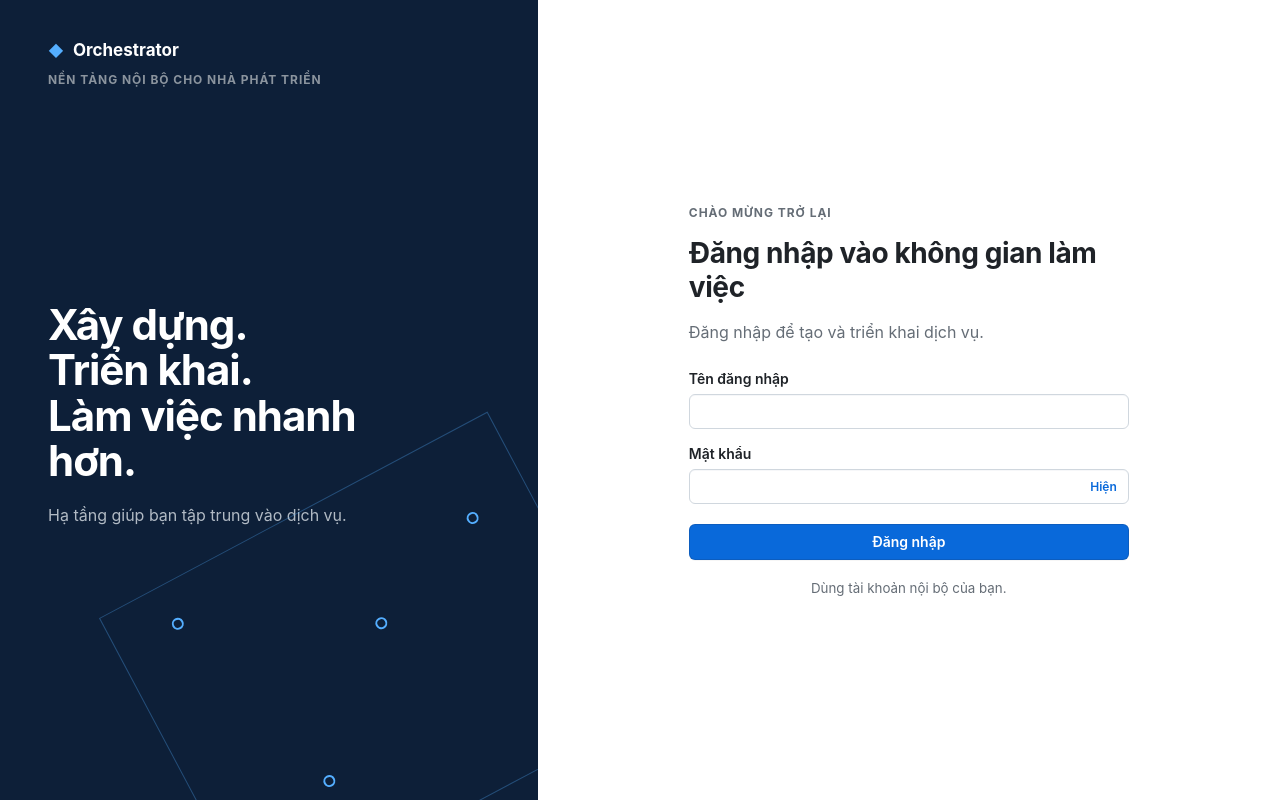
Test: shows a retryable API error and keeps the username
The width and height of the screenshot is (1280, 800).
Type "developer" into the field labelled "Tên đăng nhập" at (909, 411), box [689, 394, 1129, 428]
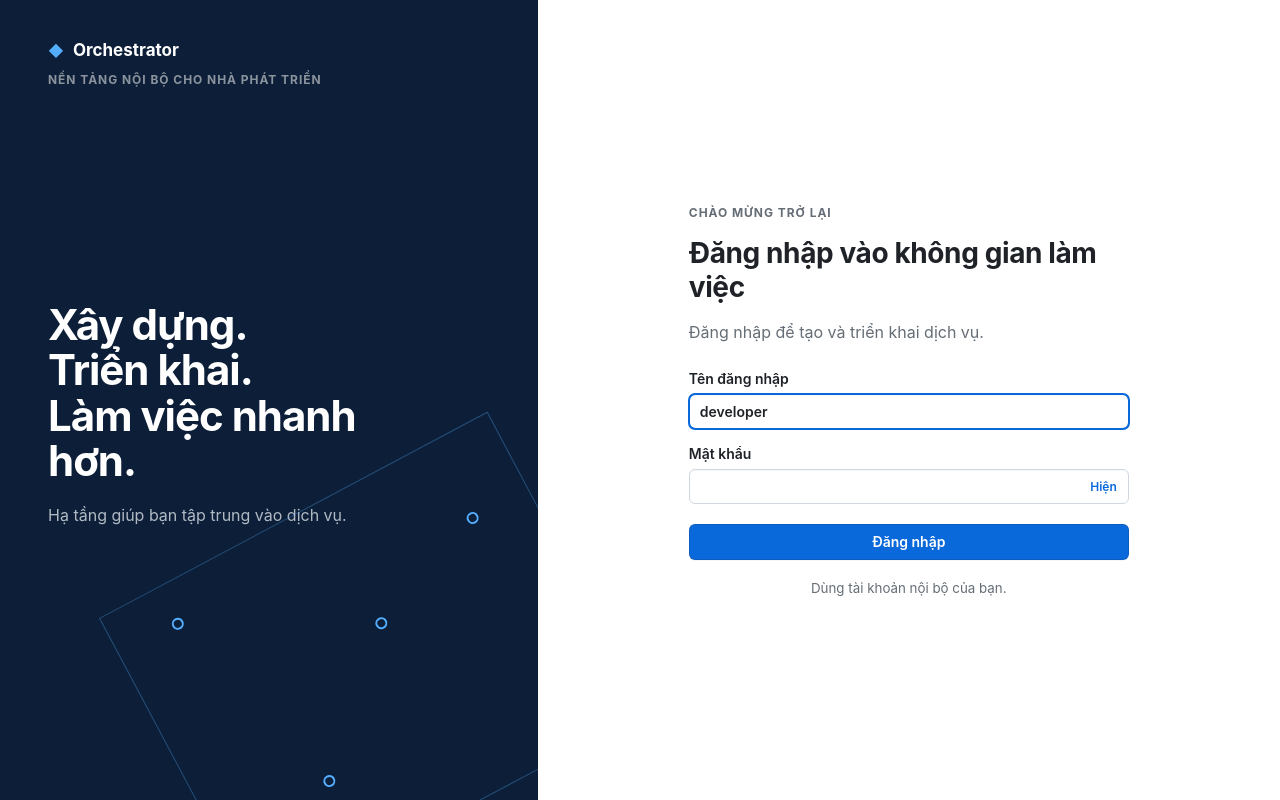
Type "test-password" into the password field labelled "Mật khẩu" at (909, 486), box [689, 468, 1129, 504]
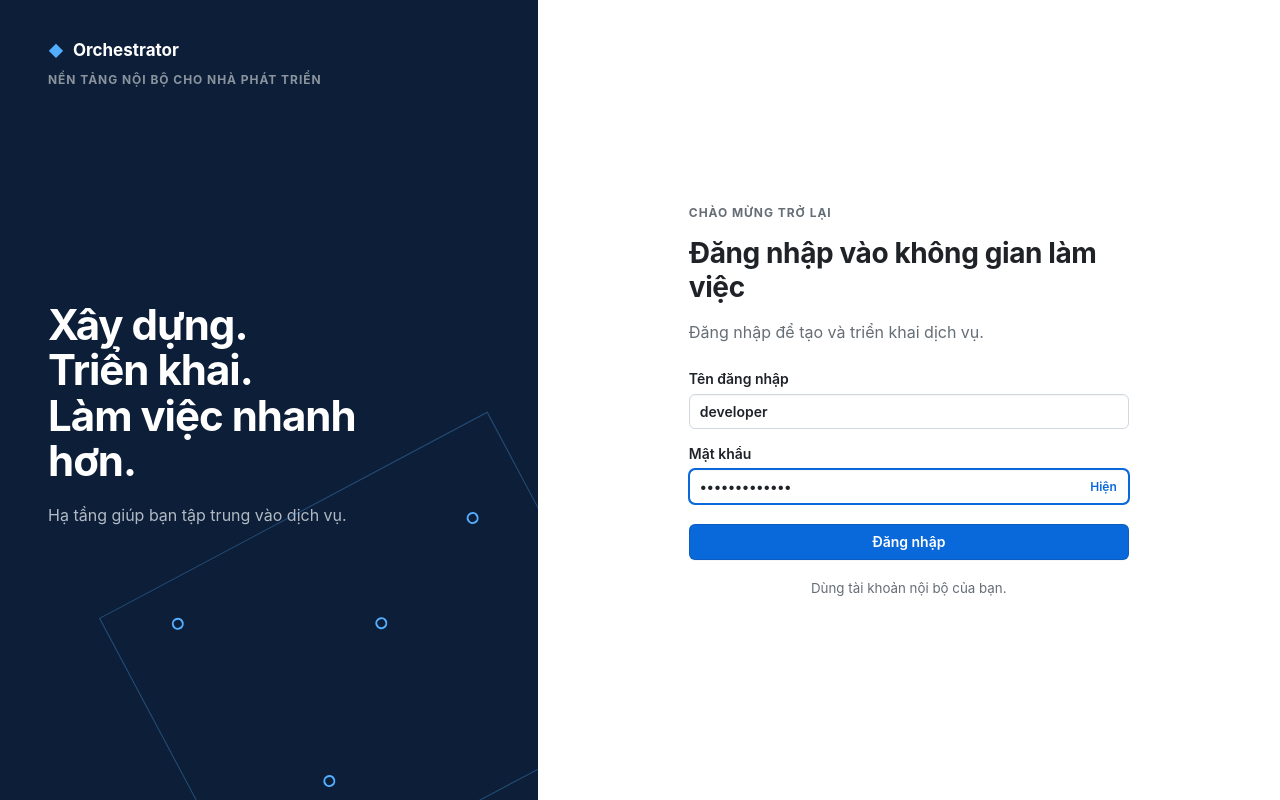
Click the button "Đăng nhập" at (909, 542), box [689, 524, 1129, 560]
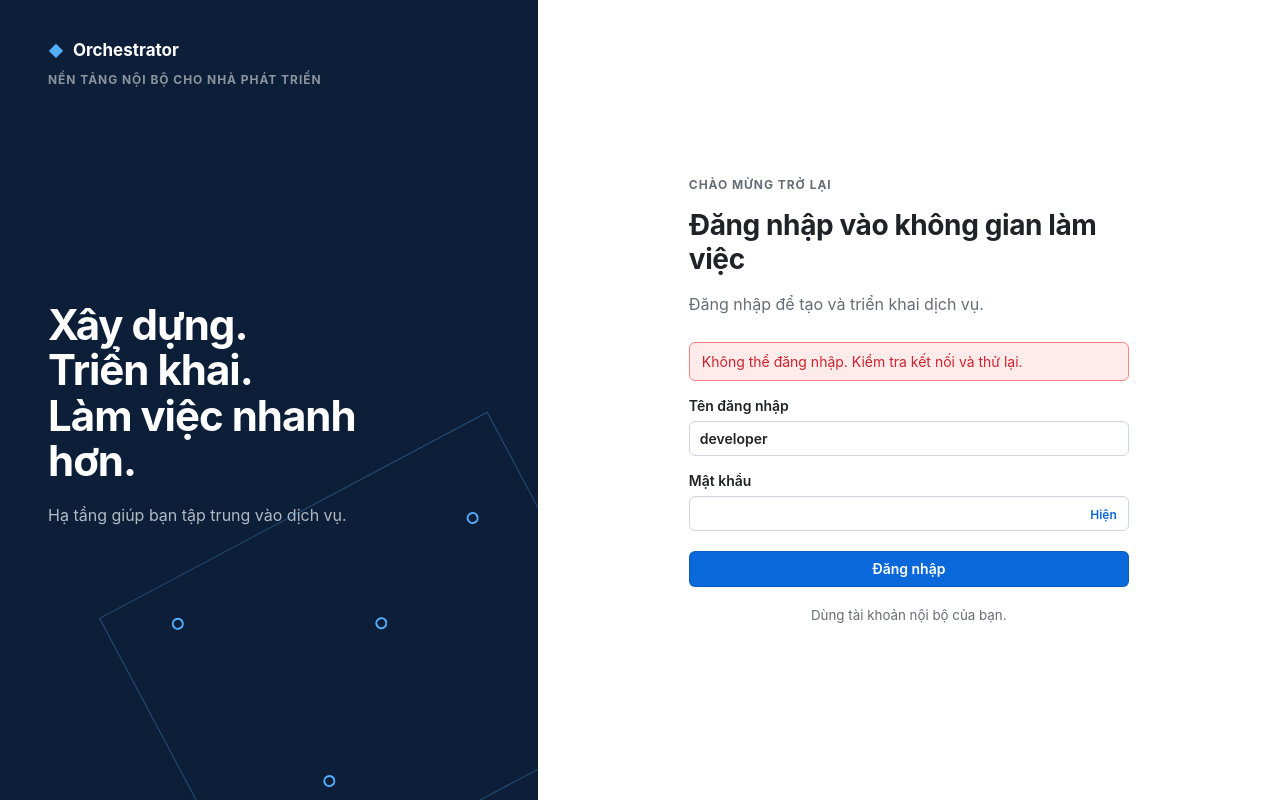
expect the button "Đăng nhập" is enabled: met, box [689, 551, 1129, 587]
expect the message reads "Không thể đăng nhập. Kiểm tra kết nối và thử lại.": met, box [702, 353, 1023, 370]
